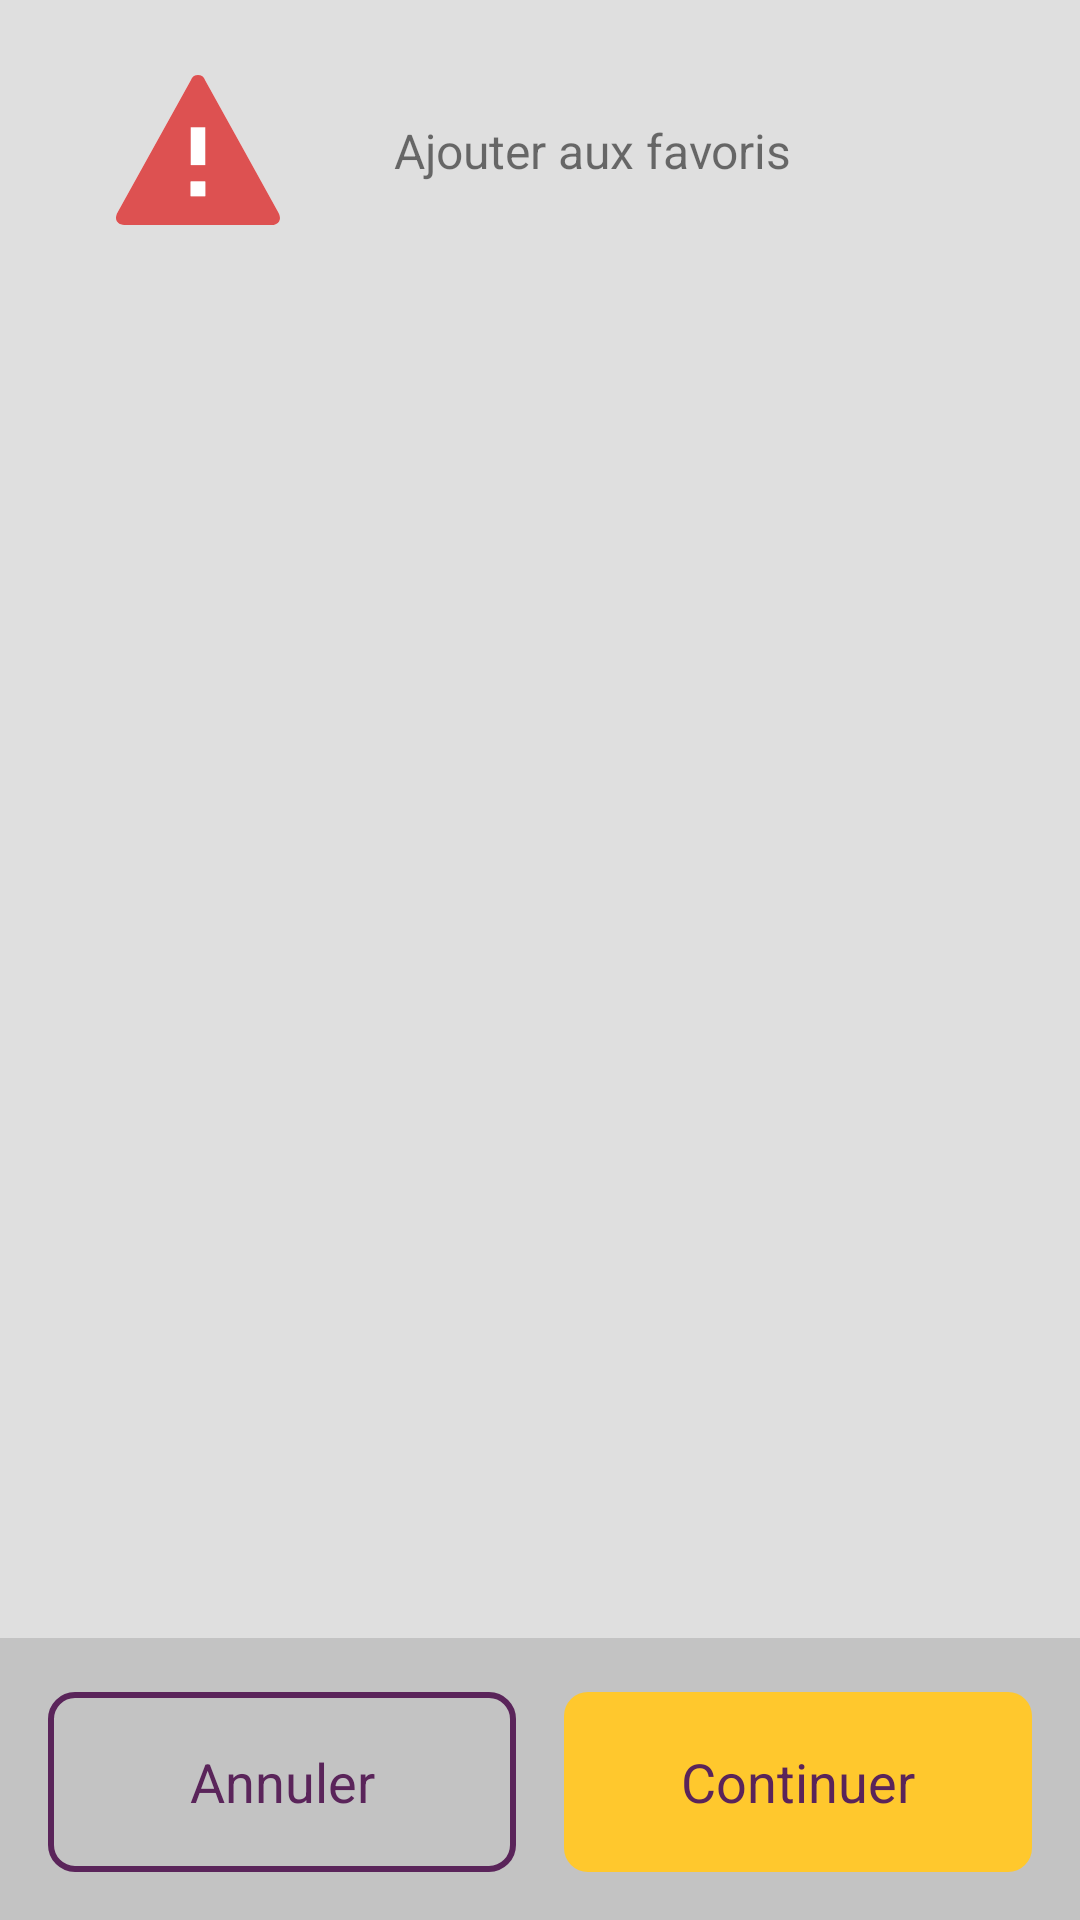

Screen size 1080px x 1920px. Icon name, then its center in pixels as (x,y):
error: (198,150)
